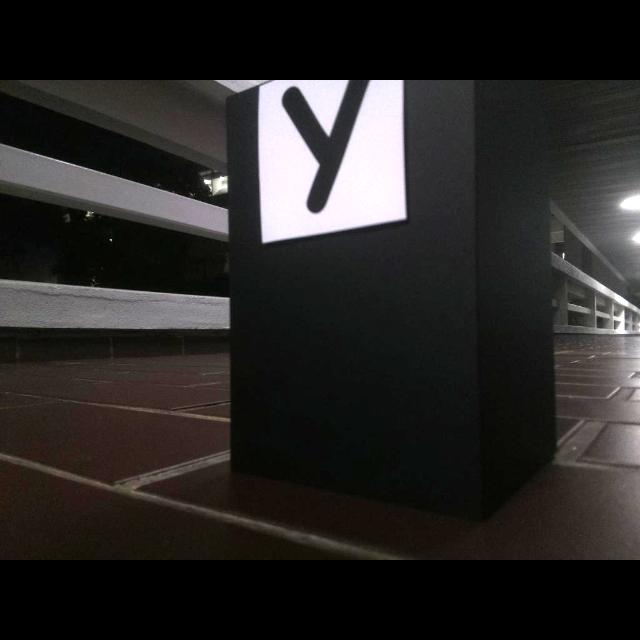Y: (283, 80, 370, 212)
